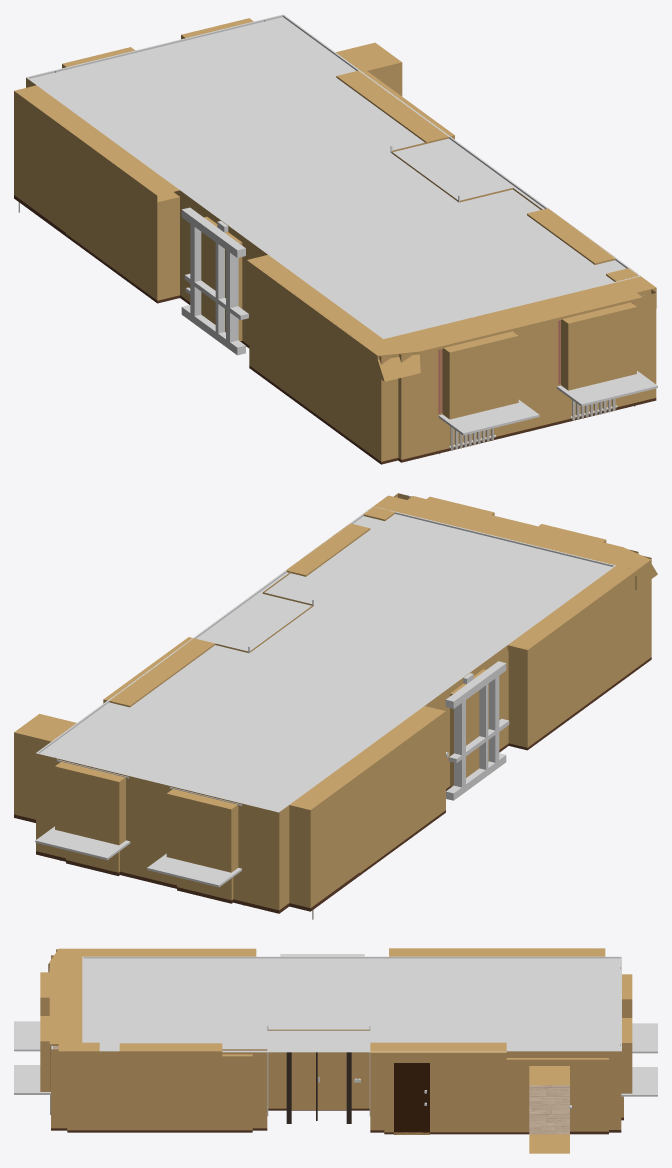
The model's file is room_web.glb.
The picture shows the model from 3 angles, top to bottom: view 1: azimuth 30°, elevation 25°; view 2: azimuth 150°, elevation 25°; view 3: azimuth 270°, elevation 25°; orthographic projection. The views are drawn at different scales.
Visible parts, largest first — view 1: Plane, Plane.005, Plane.019, Plane.008, Plane.006, Plane.013; view 2: Plane, Plane.005, Plane.019, Plane.008, Plane.006; view 3: Plane.005, Plane, Plane.008, Plane.014, Plane.007, Plane.006, Plane.018, Plane.013.
Part boxes in pixels (x1=…): Plane: x1=26, y1=14, x2=640, y2=338; Plane.005: x1=14, y1=18, x2=656, y2=461; Plane.019: x1=181, y1=207, x2=248, y2=355; Plane.008: x1=438, y1=320, x2=657, y2=435; Plane.006: x1=14, y1=195, x2=656, y2=464; Plane.013: x1=606, y1=268, x2=656, y2=308; Plane: x1=36, y1=506, x2=615, y2=812; Plane.005: x1=14, y1=493, x2=657, y2=910; Plane.019: x1=445, y1=661, x2=509, y2=800; Plane.008: x1=35, y1=759, x2=241, y2=887; Plane.006: x1=14, y1=657, x2=651, y2=913; Plane.005: x1=40, y1=948, x2=632, y2=1153; Plane: x1=82, y1=956, x2=621, y2=1052; Plane.008: x1=14, y1=1021, x2=657, y2=1096; Plane.014: x1=394, y1=1063, x2=429, y2=1132; Plane.007: x1=53, y1=1046, x2=569, y2=1134; Plane.006: x1=51, y1=1108, x2=623, y2=1134; Plane.018: x1=286, y1=1052, x2=351, y2=1123; Plane.013: x1=58, y1=1042, x2=99, y2=1066.
Bounding box in the file's own units: 7.52 × 3.26 × 16.46.
12 materials, 1 textured.
